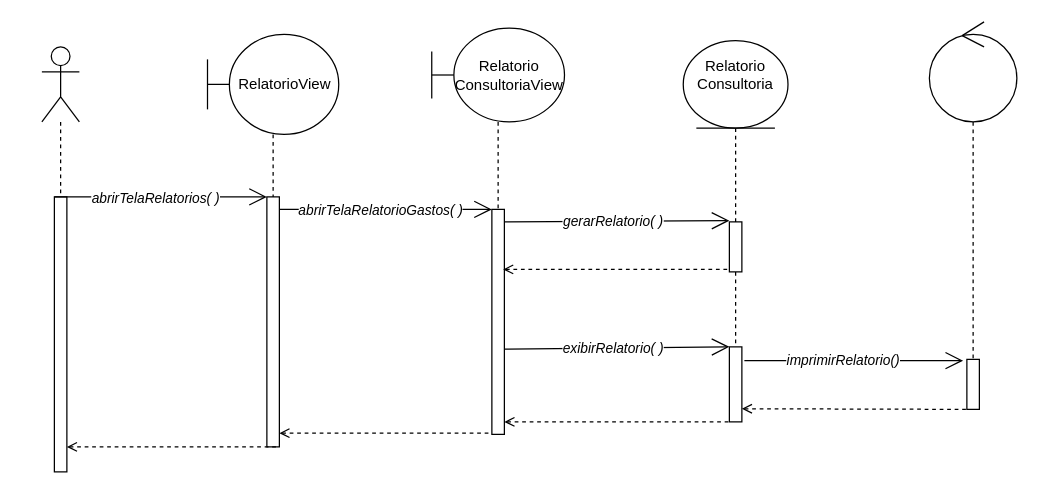
This 1039x494 diagram has some shape labels left out. Here are the shapes that lost their labels. From the top down, the centre of each, then its label:
At point (60, 84): "Funcionario".
At point (972, 71): "Relatorio Controller".
